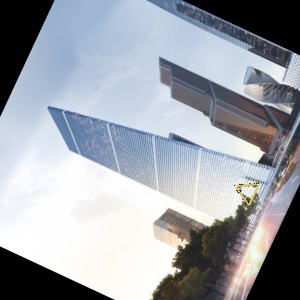triangle: (232, 180, 262, 209)
